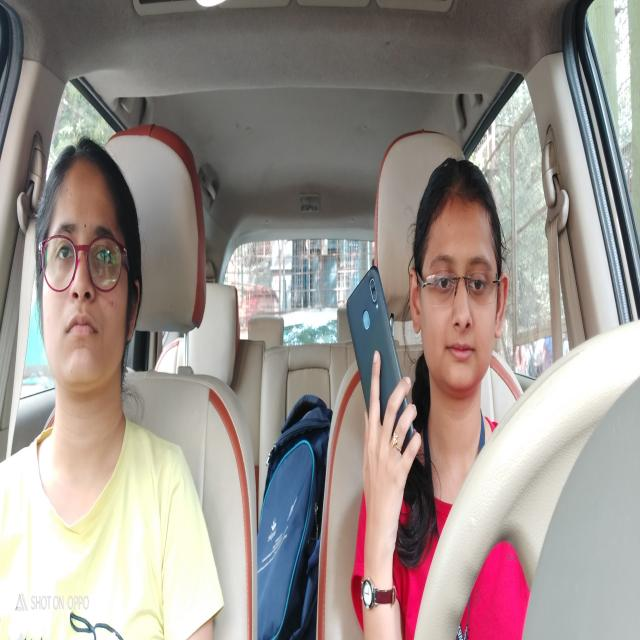mobile: (342, 271, 413, 463)
person: (32, 144, 141, 398), (413, 152, 507, 391)
